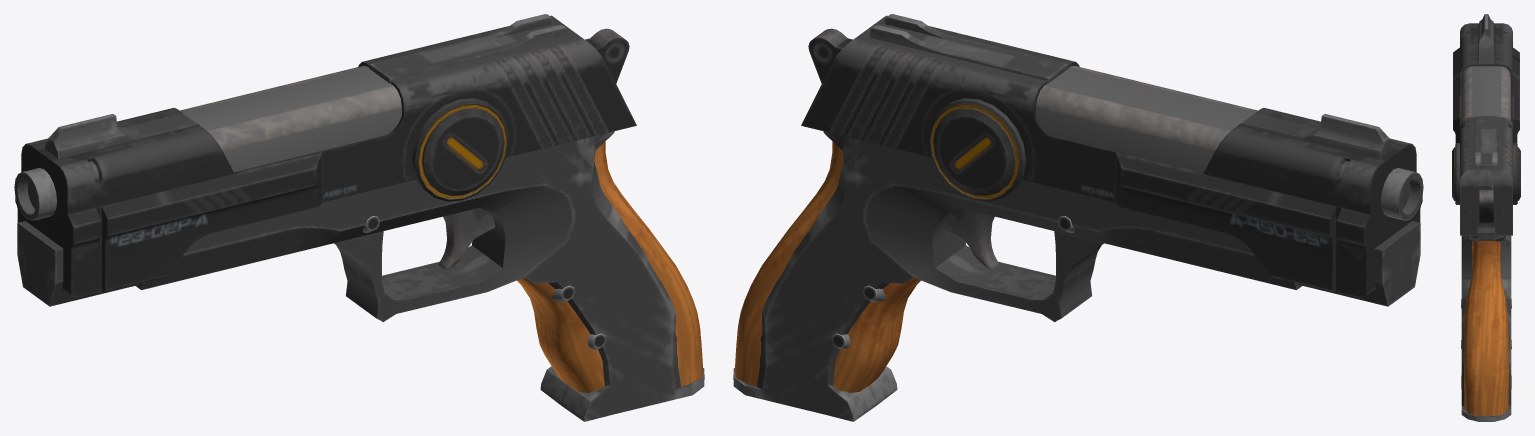
File: Gun_Pistol.fbx
3 renders of one model, left to right at view 1: azimuth 30°, elevation 25°; view 2: azimuth 150°, elevation 25°; view 3: azimuth 270°, elevation 25°, orthographic. The views are drawn at different scales.
Parts seen in each view (by area): view 1: Gun_Pistol; view 2: Gun_Pistol; view 3: Gun_Pistol.
Boxes of the visible parts, x1,y1,x2,y2 form: Gun_Pistol: [14, 14, 704, 421]; Gun_Pistol: [733, 14, 1423, 421]; Gun_Pistol: [1452, 14, 1520, 421].
Size of the model in its own units: 44.25 by 25.23 by 6.85.
